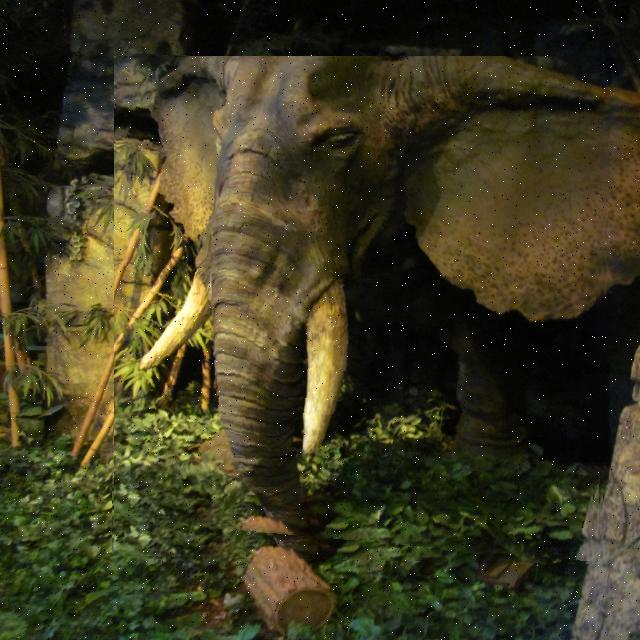elephant: (114, 56, 609, 562)
